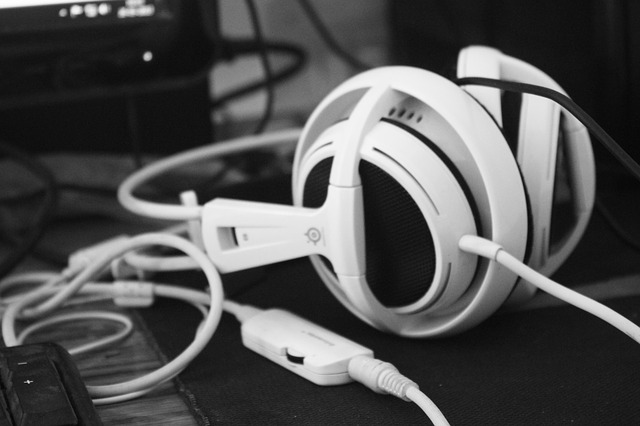headphones: (119, 47, 595, 337)
